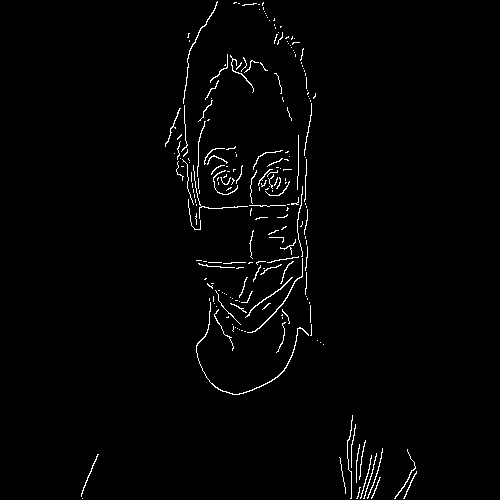mask: (190, 203, 306, 321)
